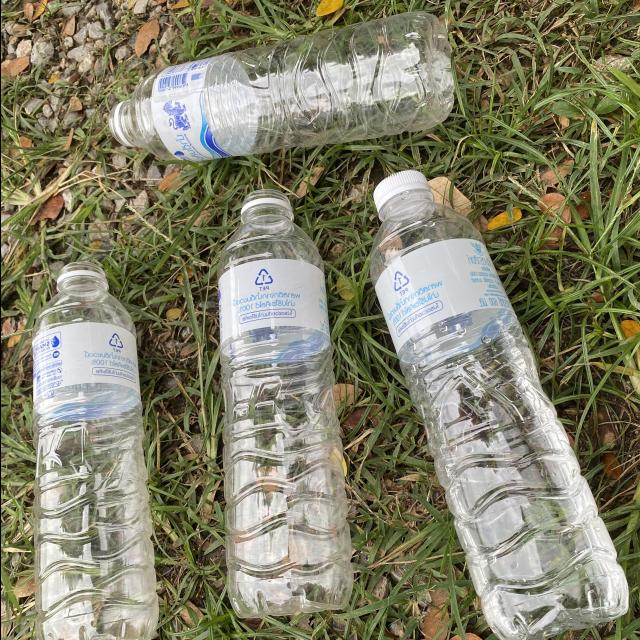plastik: (370, 170, 628, 640), (218, 190, 352, 617), (109, 12, 452, 162), (31, 261, 157, 640)
